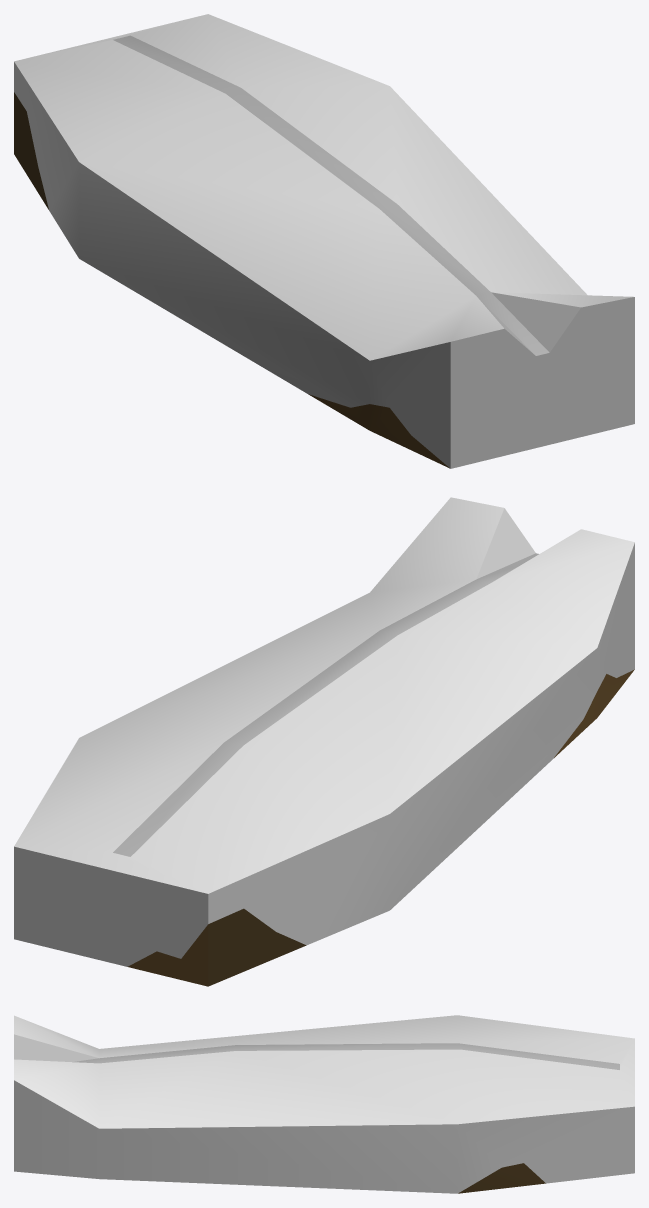
File: SA_Prop_BodyBag_06.glb
3 renders of one model, top to bottom at view 1: azimuth 30°, elevation 25°; view 2: azimuth 150°, elevation 25°; view 3: azimuth 270°, elevation 25°, orthographic. The views are drawn at different scales.
Visible parts, largest first — view 1: SA_Prop_BodyBag_06; view 2: SA_Prop_BodyBag_06; view 3: SA_Prop_BodyBag_06.
Boxes of the visible parts, box(x1,y1,x2,y2) form: SA_Prop_BodyBag_06: box(14, 14, 634, 468); SA_Prop_BodyBag_06: box(14, 497, 634, 986); SA_Prop_BodyBag_06: box(14, 1015, 634, 1193).
Size of the model in its own units: 0.5468 by 0.2178 by 1.31.
Materials: 1 (1 with a texture image).
